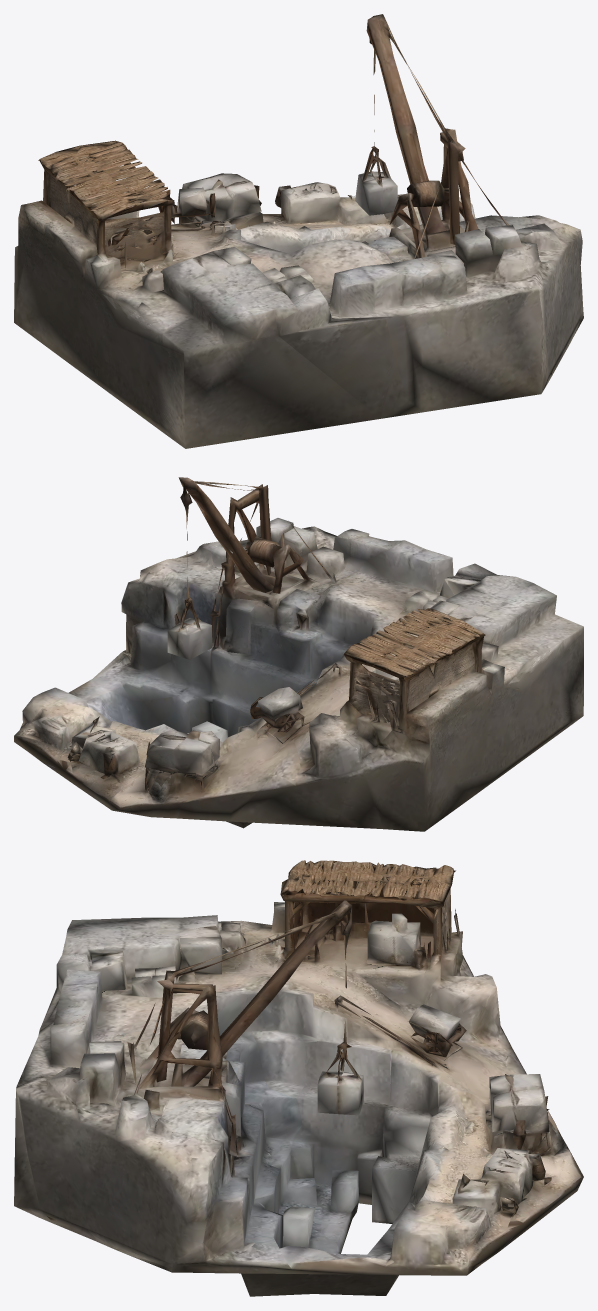
The model's file is stone_quarry_0.glb.
3 renders of one model, top to bottom at view 1: azimuth 30°, elevation 25°; view 2: azimuth 150°, elevation 25°; view 3: azimuth 270°, elevation 25°, orthographic. The views are drawn at different scales.
Parts seen in each view (by area): view 1: tripo_node_e963485e-9405-4ac8-89db-8ddb0cfb008e; view 2: tripo_node_e963485e-9405-4ac8-89db-8ddb0cfb008e; view 3: tripo_node_e963485e-9405-4ac8-89db-8ddb0cfb008e.
Boxes of the visible parts, box(x1,y1,x2,y2) form: tripo_node_e963485e-9405-4ac8-89db-8ddb0cfb008e: box(14, 14, 583, 448); tripo_node_e963485e-9405-4ac8-89db-8ddb0cfb008e: box(14, 477, 583, 831); tripo_node_e963485e-9405-4ac8-89db-8ddb0cfb008e: box(14, 860, 583, 1296).
Bounding box in the file's own units: 0.9705 × 0.676 × 0.9799.
1 material, 1 textured.
